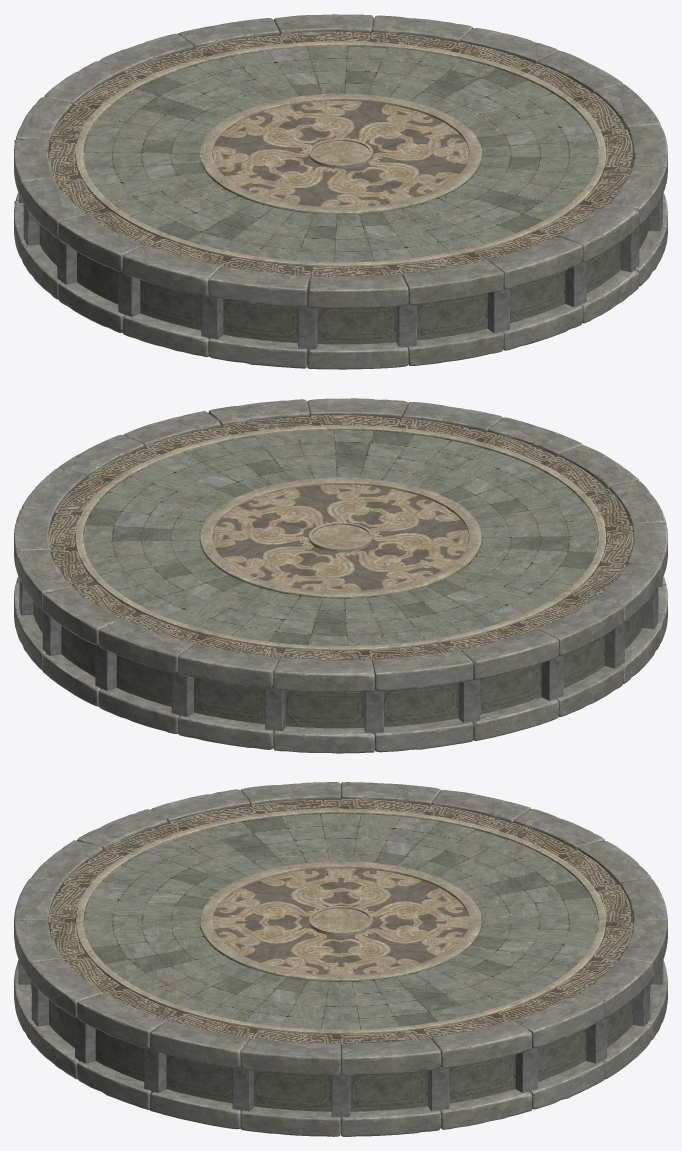
File: SM_YSC_Ping_Tai_001.fbx
3 renders of one model, top to bottom at view 1: azimuth 30°, elevation 25°; view 2: azimuth 150°, elevation 25°; view 3: azimuth 270°, elevation 25°, orthographic.
Visible parts, largest first — view 1: SM_YSC_Ping_Tai_001; view 2: SM_YSC_Ping_Tai_001; view 3: SM_YSC_Ping_Tai_001.
Part boxes in pixels (x1,y1,x2,y2): SM_YSC_Ping_Tai_001: (14, 14, 667, 369); SM_YSC_Ping_Tai_001: (14, 398, 667, 753); SM_YSC_Ping_Tai_001: (14, 782, 667, 1136).
Size of the model in its own units: 538 by 72.73 by 538.
